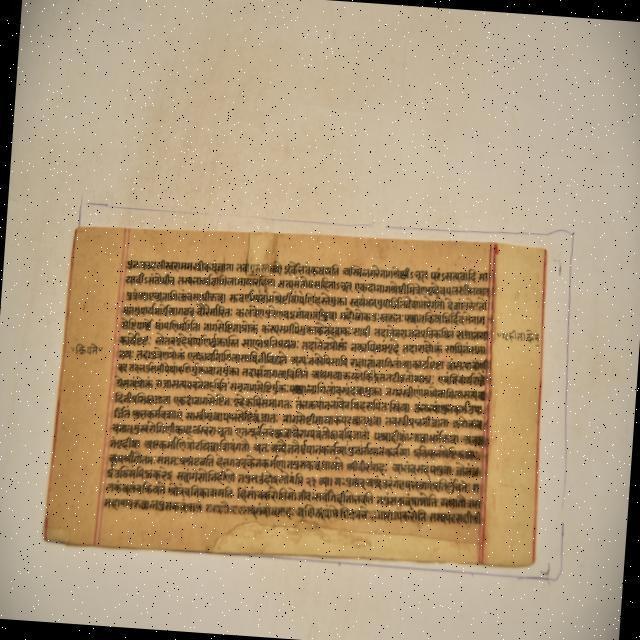text_paragraph: (43, 223, 546, 567)
